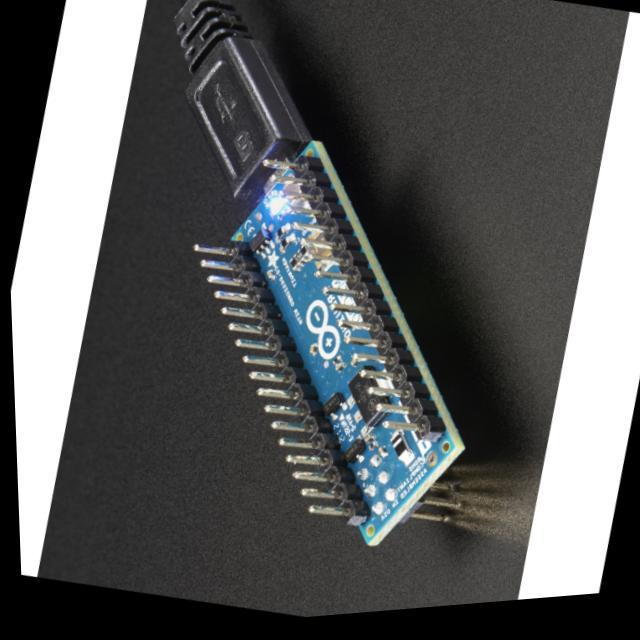Arduino-Micro: (116, 97, 539, 597), (195, 142, 464, 546)
